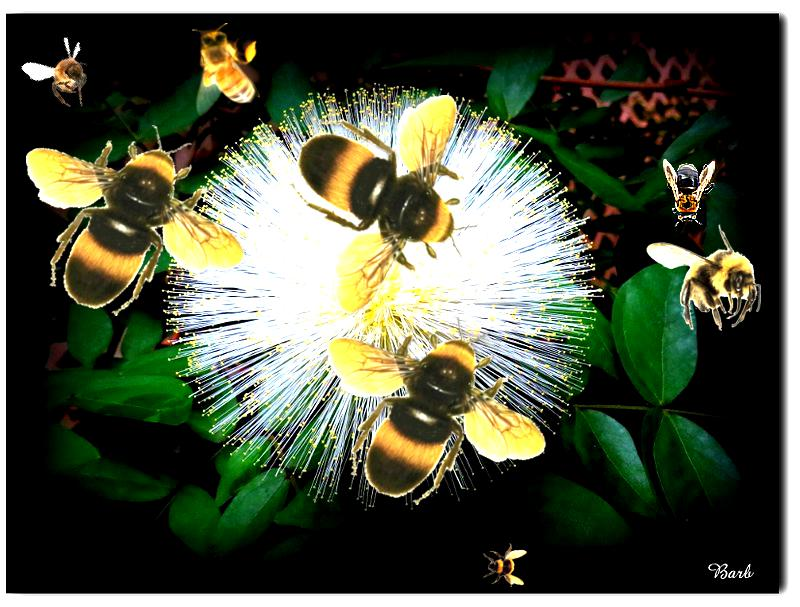Bee: (327, 314, 547, 505), (26, 125, 246, 316), (289, 95, 480, 315), (646, 224, 761, 331), (20, 26, 113, 120), (192, 23, 260, 116), (663, 159, 715, 227), (483, 543, 527, 587)
